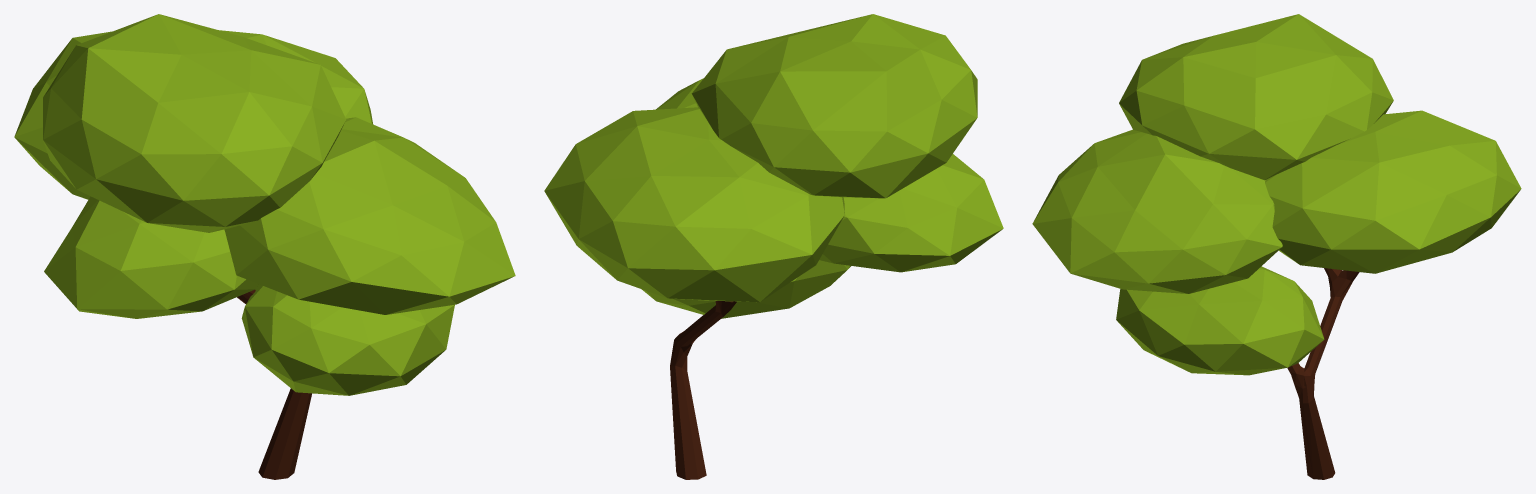
The model's file is acacia_1.glb.
3 renders of one model, left to right at view 1: azimuth 30°, elevation 25°; view 2: azimuth 150°, elevation 25°; view 3: azimuth 270°, elevation 25°, orthographic. The views are drawn at different scales.
Visible parts, largest first — view 1: Icosphere.001; view 2: Icosphere.001; view 3: Icosphere.001.
Part boxes in pixels (bbox=[...]): Icosphere.001: bbox=[14, 14, 515, 479]; Icosphere.001: bbox=[544, 14, 1003, 479]; Icosphere.001: bbox=[1032, 14, 1521, 479].
Size of the model in its own units: 7.9 by 9.42 by 10.92.
